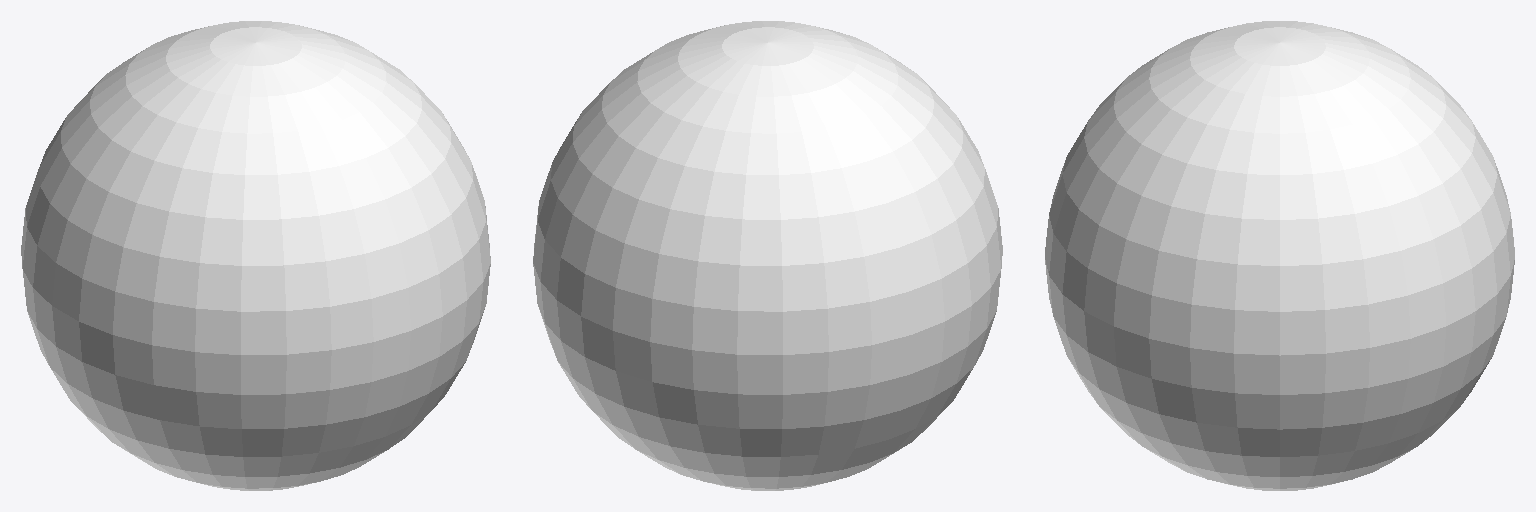
3 views of the same model, side by side, from view 1: azimuth 30°, elevation 25°; view 2: azimuth 150°, elevation 25°; view 3: azimuth 270°, elevation 25° (orthographic).
Visible parts, largest first — view 1: Sphere; view 2: Sphere; view 3: Sphere.
Boxes of the visible parts, x1=… form: Sphere: x1=21, y1=21, x2=490, y2=490; Sphere: x1=533, y1=21, x2=1002, y2=490; Sphere: x1=1045, y1=21, x2=1514, y2=490.
Size of the model in its own units: 2 by 2 by 2.
Materials: 1 (1 with a texture image).